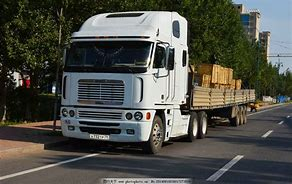bigtruck: (54, 9, 257, 155)
